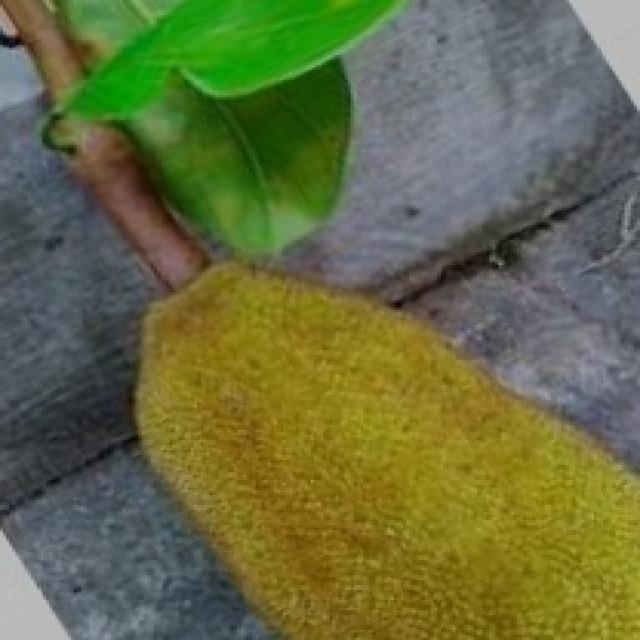Fruit: (271, 238, 640, 638)
